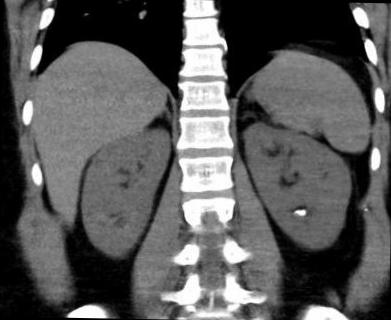Tas_Var: (292, 208, 306, 217)
